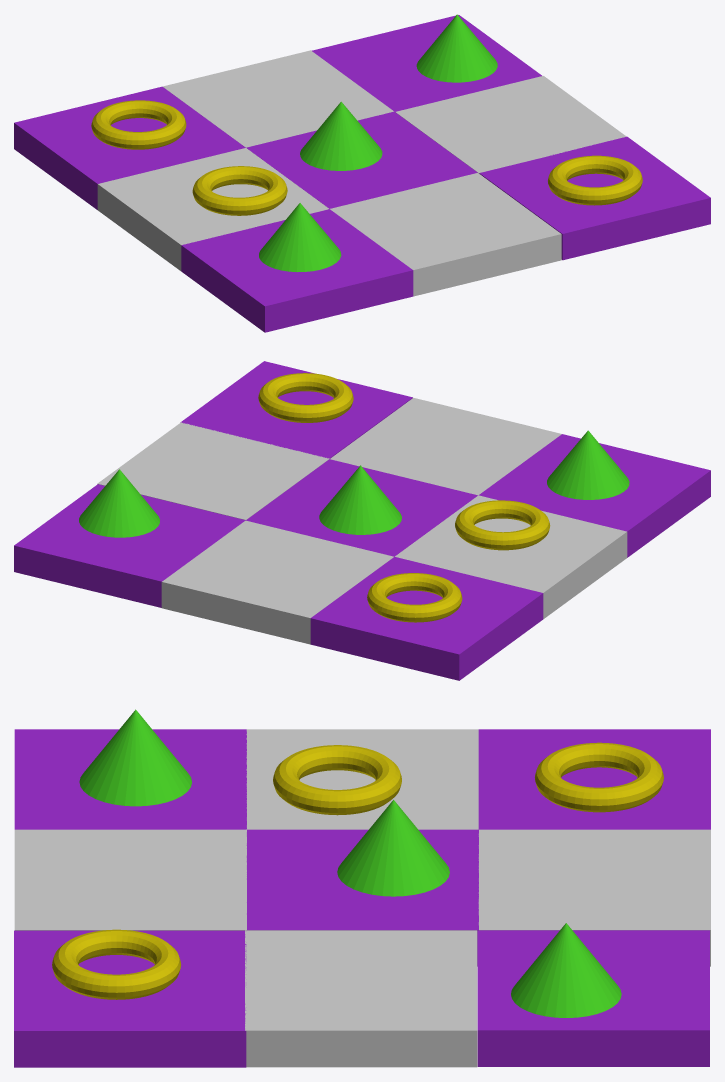
File: JUEGO.obj
3 renders of one model, top to bottom at view 1: azimuth 30°, elevation 25°; view 2: azimuth 150°, elevation 25°; view 3: azimuth 270°, elevation 25°, orthographic. The views are drawn at different scales.
Parts seen in each view (by area): view 1: Plane.003, Plane, Plane.006, Plane.007, Plane.005, Plane.002, Plane.001, Plane.004, Plane.008, Cone.001, Cone, Cone.002 (+3 smaller); view 2: Plane.005, Plane.002, Plane.008, Plane.003, Plane.007, Plane.001, Plane, Plane.006, Plane.004, Cone, Cone.001, Cone.002 (+3 smaller); view 3: Plane.007, Plane.006, Plane.008, Plane.003, Plane.005, Plane.004, Plane.002, Plane, Plane.001, Cone.001, Cone, Cone.002 (+3 smaller).
Part boxes in pixels (x1=…): Plane.003: x1=330, y1=173, x2=561, y2=296; Plane: x1=181, y1=209, x2=413, y2=332; Plane.006: x1=479, y1=136, x2=710, y2=260; Plane.007: x1=395, y1=76, x2=626, y2=173; Plane.005: x1=162, y1=50, x2=393, y2=147; Plane.002: x1=14, y1=86, x2=245, y2=209; Plane.001: x1=97, y1=148, x2=328, y2=270; Plane.004: x1=246, y1=111, x2=477, y2=208; Plane.008: x1=311, y1=15, x2=541, y2=111; Cone.001: x1=300, y1=101, x2=382, y2=170; Cone: x1=259, y1=203, x2=341, y2=272; Cone.002: x1=416, y1=14, x2=497, y2=82; Plane.005: x1=161, y1=520, x2=393, y2=644; Plane.002: x1=310, y1=557, x2=543, y2=680; Plane.008: x1=14, y1=484, x2=245, y2=607; Plane.003: x1=330, y1=397, x2=561, y2=495; Plane.007: x1=97, y1=422, x2=329, y2=520; Plane.001: x1=395, y1=495, x2=627, y2=618; Plane: x1=479, y1=434, x2=710, y2=557; Plane.006: x1=180, y1=361, x2=412, y2=458; Plane.004: x1=246, y1=459, x2=477, y2=556; Cone: x1=547, y1=430, x2=629, y2=499; Cone.001: x1=319, y1=465, x2=401, y2=534; Cone.002: x1=79, y1=469, x2=159, y2=537; Plane.007: x1=245, y1=930, x2=477, y2=1067; Plane.006: x1=14, y1=930, x2=246, y2=1067; Plane.008: x1=477, y1=930, x2=709, y2=1066; Plane.003: x1=14, y1=829, x2=246, y2=930; Plane.005: x1=478, y1=829, x2=710, y2=966; Plane.004: x1=246, y1=829, x2=478, y2=966; Plane.002: x1=478, y1=729, x2=710, y2=829; Plane: x1=14, y1=729, x2=246, y2=829; Plane.001: x1=246, y1=729, x2=478, y2=829; Cone.001: x1=337, y1=800, x2=449, y2=896; Cone: x1=79, y1=709, x2=191, y2=806; Cone.002: x1=511, y1=923, x2=621, y2=1017.
Size of the model in its own units: 14.3 by 2.44 by 13.95.
